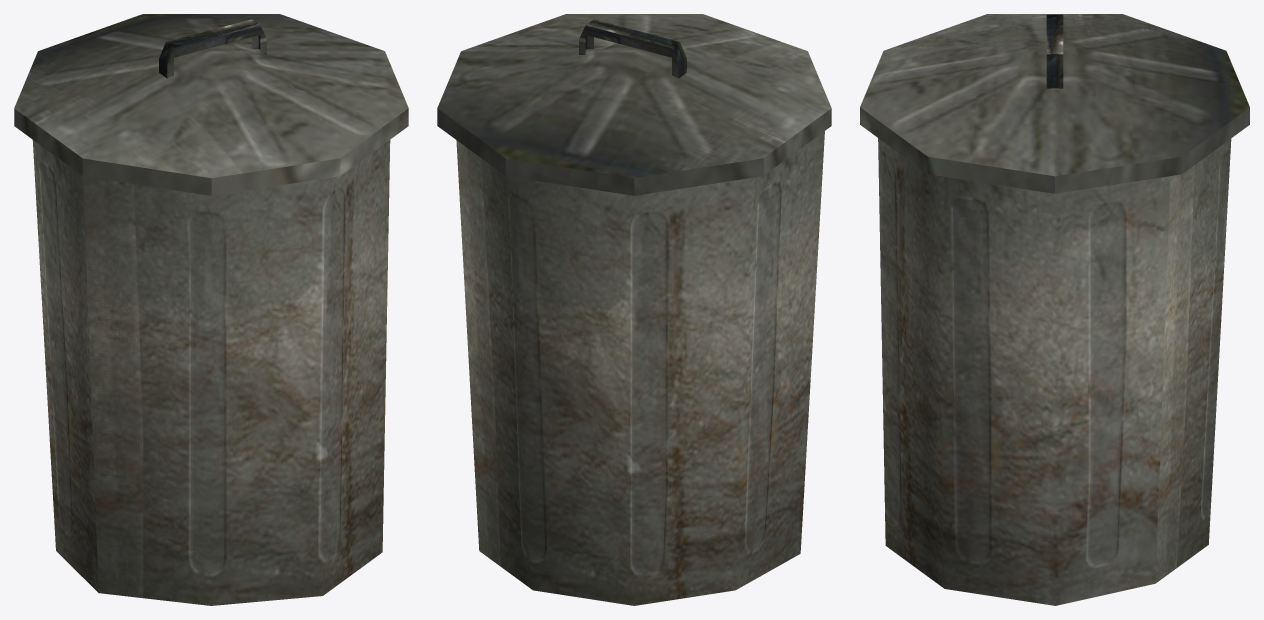
The model's file is tonne1.obj.
3 renders of one model, left to right at view 1: azimuth 30°, elevation 25°; view 2: azimuth 150°, elevation 25°; view 3: azimuth 270°, elevation 25°, orthographic.
Parts seen in each view (by area): view 1: polySurface16; view 2: polySurface16; view 3: polySurface16.
Boxes of the visible parts, x1,y1,x2,y2 form: polySurface16: (14, 14, 408, 605); polySurface16: (437, 14, 831, 605); polySurface16: (860, 14, 1249, 605).
Size of the model in its own units: 0.3388 by 0.4871 by 0.3441.
Materials: 1 (1 with a texture image).
